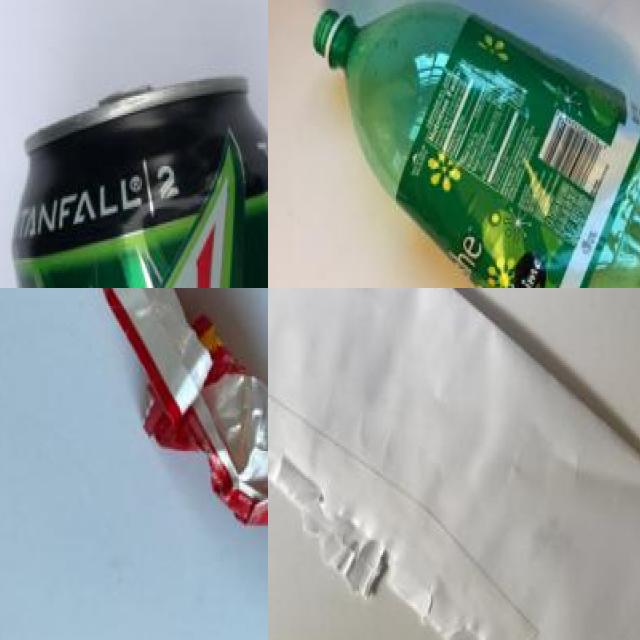paper: (268, 288, 640, 640)
plastic: (309, 0, 640, 288), (12, 72, 268, 288)
trash: (52, 288, 268, 547)
